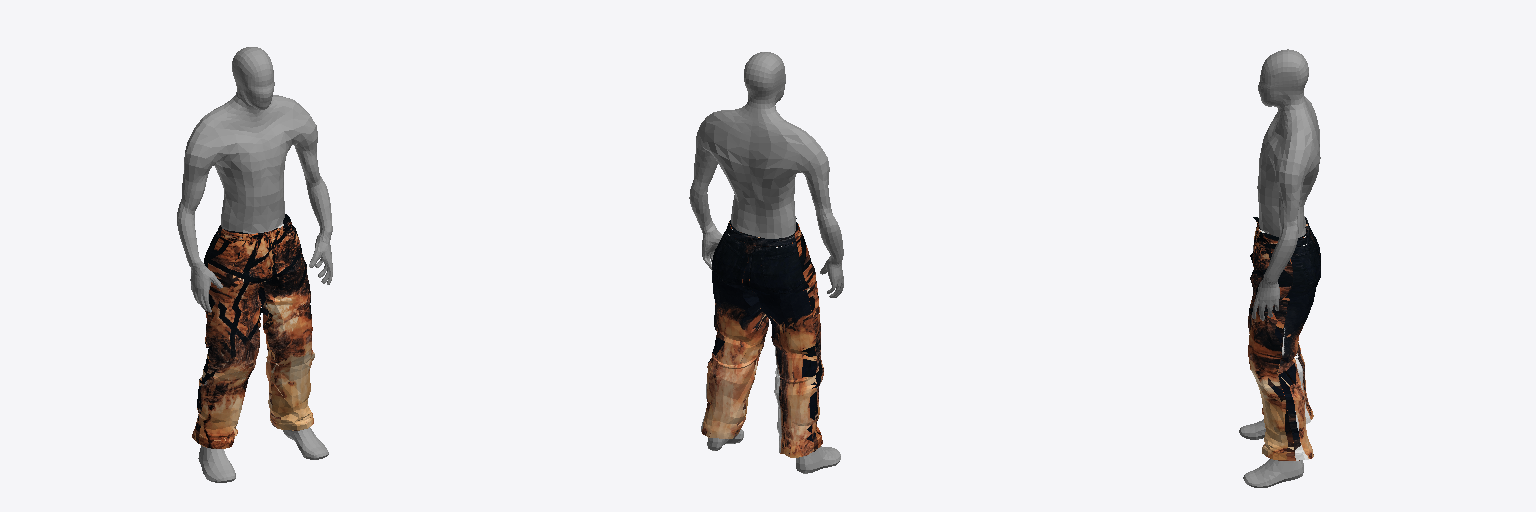
3 renders of one model, left to right at view 1: azimuth 30°, elevation 25°; view 2: azimuth 150°, elevation 25°; view 3: azimuth 270°, elevation 25°, orthographic.
Visible parts, largest first — view 1: Human_BaseMesh_Mesh, Object60.004; view 2: Object60.004, Human_BaseMesh_Mesh; view 3: Human_BaseMesh_Mesh, Object60.004.
Boxes of the visible parts, x1,y1,x2,y2 form: Human_BaseMesh_Mesh: [177, 47, 332, 482]; Object60.004: [192, 214, 314, 448]; Object60.004: [701, 218, 823, 457]; Human_BaseMesh_Mesh: [689, 52, 843, 473]; Human_BaseMesh_Mesh: [1239, 49, 1320, 487]; Object60.004: [1248, 217, 1320, 460].
Size of the model in its own units: 6.14 by 16.22 by 2.95.
Materials: 3 (1 with a texture image).